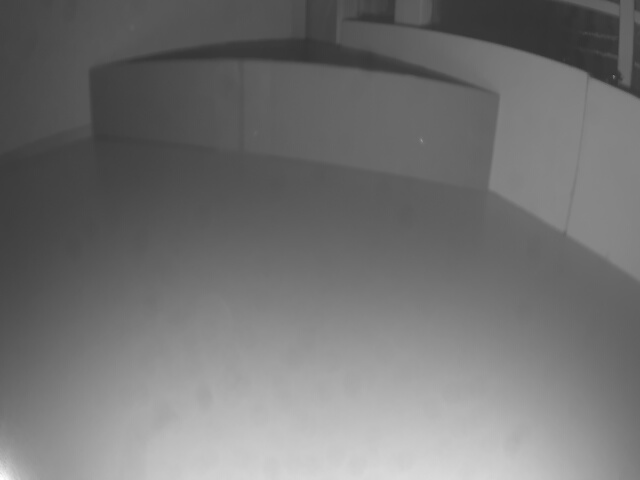Green: (88, 63, 499, 195)
